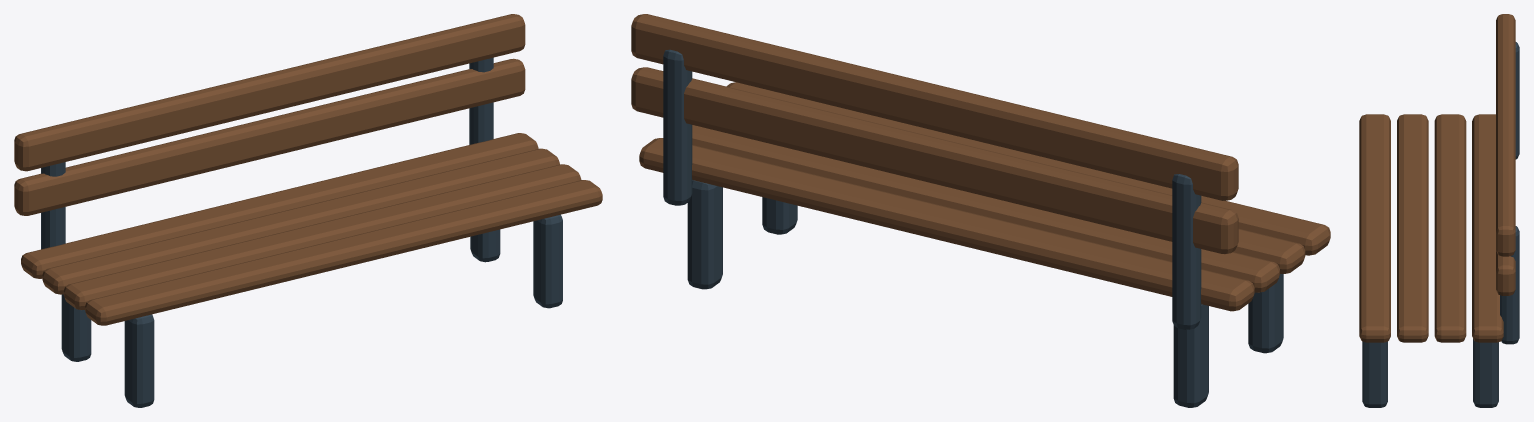
The model's file is SM_Bench.fbx.
3 renders of one model, left to right at view 1: azimuth 30°, elevation 25°; view 2: azimuth 150°, elevation 25°; view 3: azimuth 270°, elevation 25°, orthographic. The views are drawn at different scales.
Parts seen in each view (by area): view 1: SM_Bench; view 2: SM_Bench; view 3: SM_Bench.
Boxes of the visible parts, x1,y1,x2,y2 form: SM_Bench: (14,14,602,407); SM_Bench: (631,14,1330,407); SM_Bench: (1359,14,1519,407).
Bounding box in the file's own units: 260 × 81 × 110.
